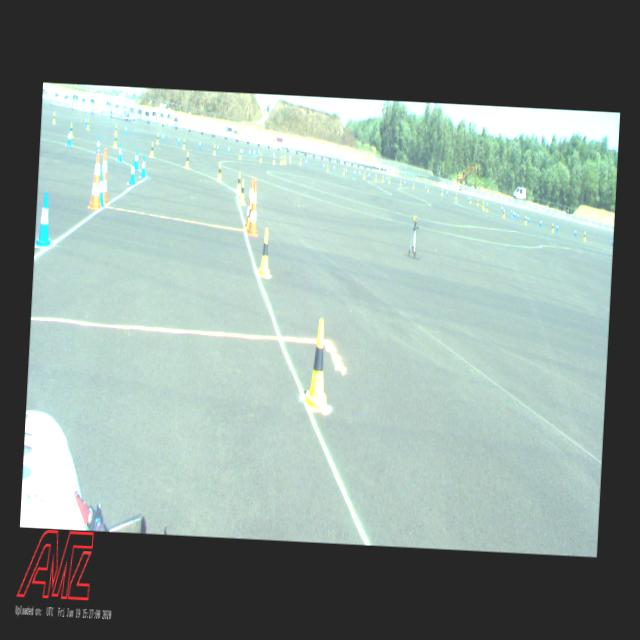blue_cone: (36, 192, 54, 246), (99, 172, 106, 206), (129, 158, 137, 185), (141, 154, 147, 178), (117, 142, 124, 162), (134, 148, 140, 170), (95, 136, 102, 154), (67, 128, 72, 146), (84, 116, 88, 127), (125, 124, 128, 134), (162, 132, 165, 142), (253, 148, 256, 156), (358, 170, 361, 177), (200, 140, 202, 150), (178, 136, 180, 146), (249, 148, 251, 157), (228, 145, 230, 154), (242, 147, 244, 156), (217, 143, 219, 152), (556, 223, 558, 232), (574, 228, 576, 236), (540, 218, 542, 226), (323, 162, 325, 170), (334, 164, 336, 172), (305, 158, 307, 166), (517, 212, 519, 220), (514, 211, 516, 219), (510, 208, 512, 215), (354, 169, 356, 176), (258, 149, 260, 156), (446, 190, 448, 197), (346, 167, 348, 174), (528, 216, 530, 223), (386, 175, 388, 182), (404, 179, 406, 186), (501, 206, 503, 212), (368, 172, 370, 178), (272, 152, 274, 158), (425, 184, 426, 192), (612, 238, 613, 245), (289, 154, 290, 161), (468, 195, 469, 201), (487, 202, 488, 208), (514, 210, 514, 217)
large_orange_cone: (87, 150, 104, 210), (248, 180, 260, 237), (100, 148, 112, 204), (245, 177, 254, 228)
yellow_cone: (306, 318, 332, 410), (258, 228, 272, 277), (246, 200, 252, 232), (239, 180, 246, 204), (236, 172, 242, 194), (184, 152, 190, 169), (218, 162, 222, 182), (113, 131, 118, 147), (150, 142, 154, 158), (70, 122, 74, 138), (52, 112, 56, 124), (86, 118, 90, 130), (156, 134, 160, 144), (114, 124, 118, 134), (183, 138, 186, 148), (551, 222, 554, 232), (583, 231, 586, 241), (524, 216, 527, 224), (388, 176, 391, 184), (469, 196, 472, 204), (214, 144, 216, 156), (240, 149, 242, 159), (260, 152, 262, 162), (503, 210, 505, 218), (476, 198, 478, 206), (284, 156, 286, 164), (364, 172, 366, 180), (441, 188, 443, 196), (280, 156, 282, 164), (482, 202, 484, 210), (274, 156, 276, 164), (400, 178, 402, 186), (326, 164, 328, 172), (375, 174, 377, 182), (300, 158, 302, 166), (284, 155, 286, 163), (382, 175, 384, 182), (290, 156, 292, 163), (343, 168, 345, 175), (486, 205, 488, 212), (482, 201, 484, 208), (455, 193, 457, 199), (412, 182, 414, 188), (428, 185, 428, 192)
